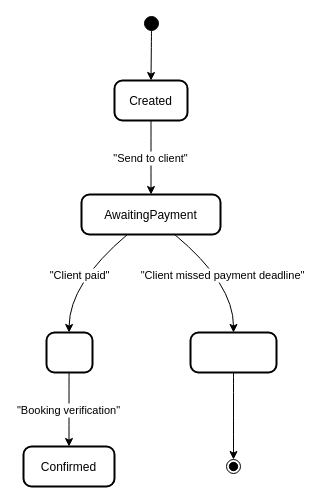
This 322x503 diagram has some shape labels left out. Here are the shapes that lost their labels. From the top down, the centre of each, then its label:
At [69,352]: "Paid".
At [233,352]: "Cancelled".
